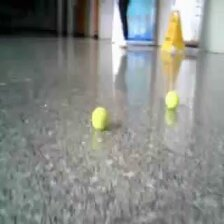tennis: (91, 107, 108, 130), (165, 91, 179, 108)
